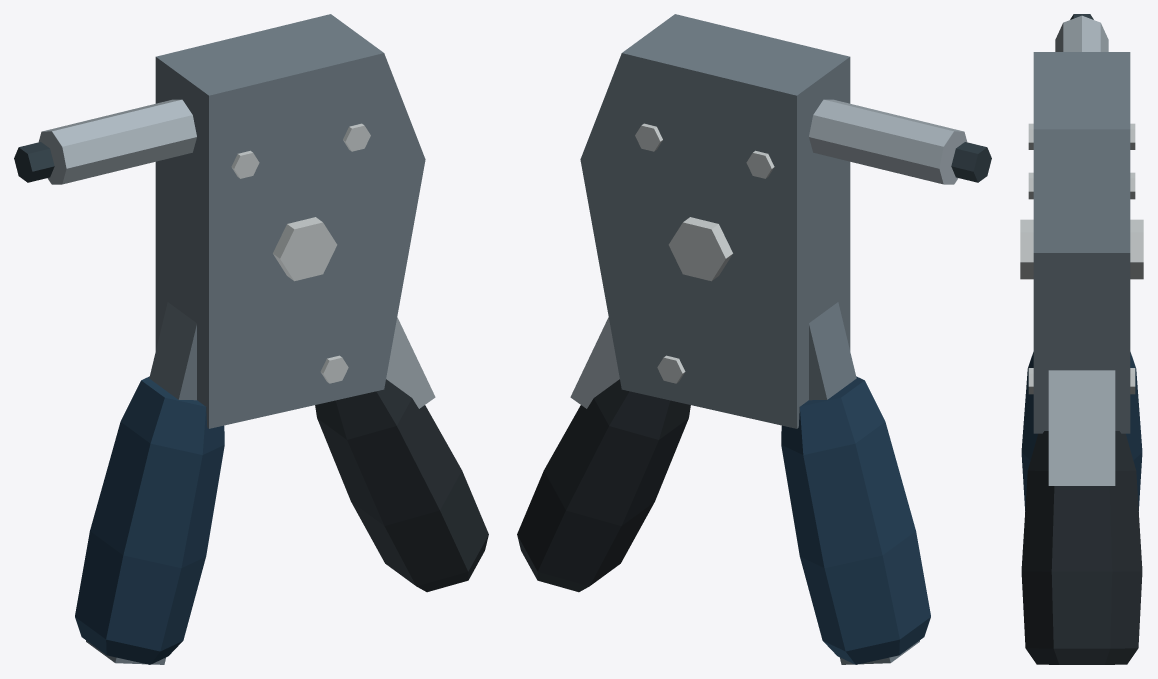
The model's file is b06_rivet_gun.glb.
3 views of the same model, side by side, from view 1: azimuth 30°, elevation 25°; view 2: azimuth 150°, elevation 25°; view 3: azimuth 270°, elevation 25° (orthographic). The views are drawn at different scales.
Parts seen in each view (by area): view 1: b06_rivet_gun; view 2: b06_rivet_gun; view 3: b06_rivet_gun.
Boxes of the visible parts, x1,y1,x2,y2 form: b06_rivet_gun: (14,14,488,664); b06_rivet_gun: (517,14,991,664); b06_rivet_gun: (1020,14,1143,664).
Bounding box in the file's own units: 0.1414 × 0.1711 × 0.037.
